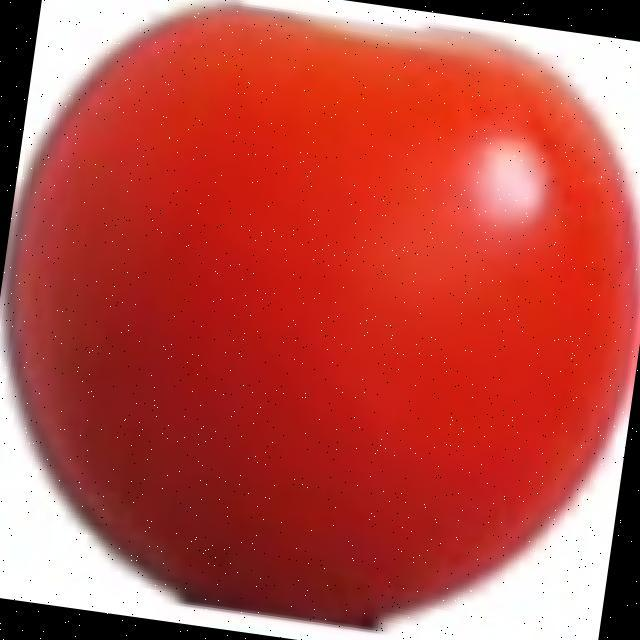tomato: (10, 5, 638, 615)
